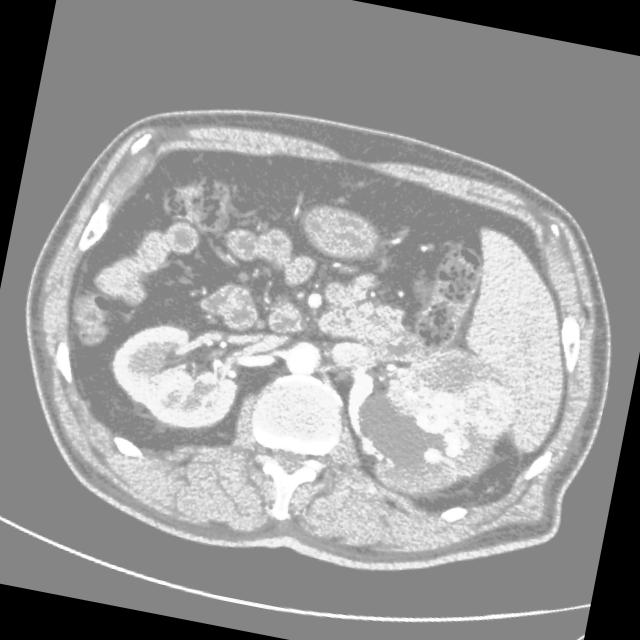TUMOR: (97, 116, 440, 460)
